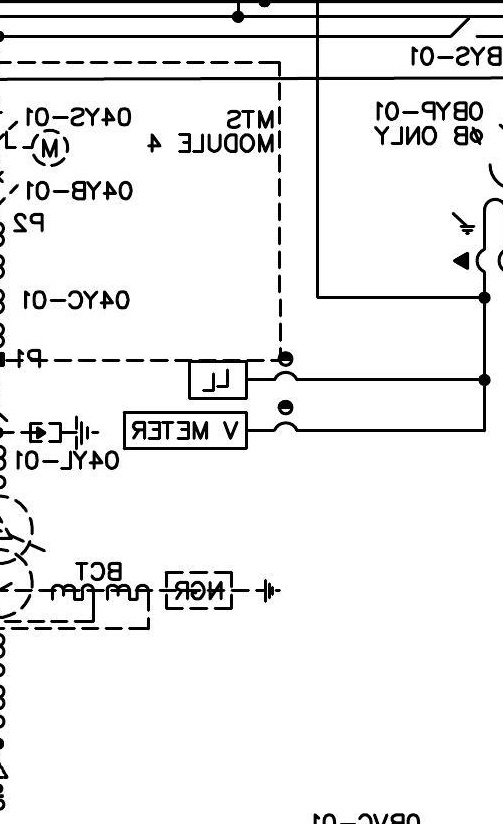115_ds: (450, 18, 480, 39)
LL: (187, 360, 249, 401)
v_m_digital: (122, 410, 249, 451)
